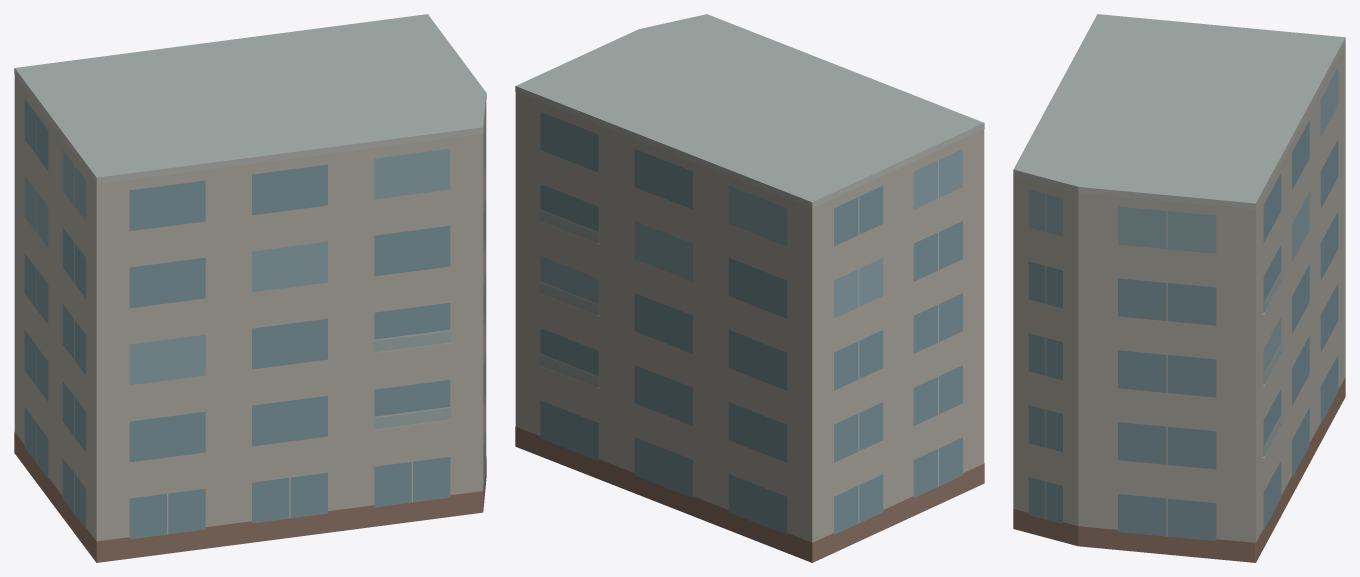
Rendered from survey-upis-32659174.glb.
The picture shows the model from 3 angles, left to right: view 1: azimuth 30°, elevation 25°; view 2: azimuth 150°, elevation 25°; view 3: azimuth 270°, elevation 25°; orthographic projection. The views are drawn at different scales.
Parts seen in each view (by area): view 1: survey-upis-32659174.tmp; view 2: survey-upis-32659174.tmp; view 3: survey-upis-32659174.tmp.
Part boxes in pixels (x1=…): survey-upis-32659174.tmp: x1=14, y1=14, x2=486, y2=562; survey-upis-32659174.tmp: x1=515, y1=14, x2=984, y2=562; survey-upis-32659174.tmp: x1=1013, y1=14, x2=1345, y2=562.
Size of the model in its own units: 16.4 by 14.5 by 12.16.
